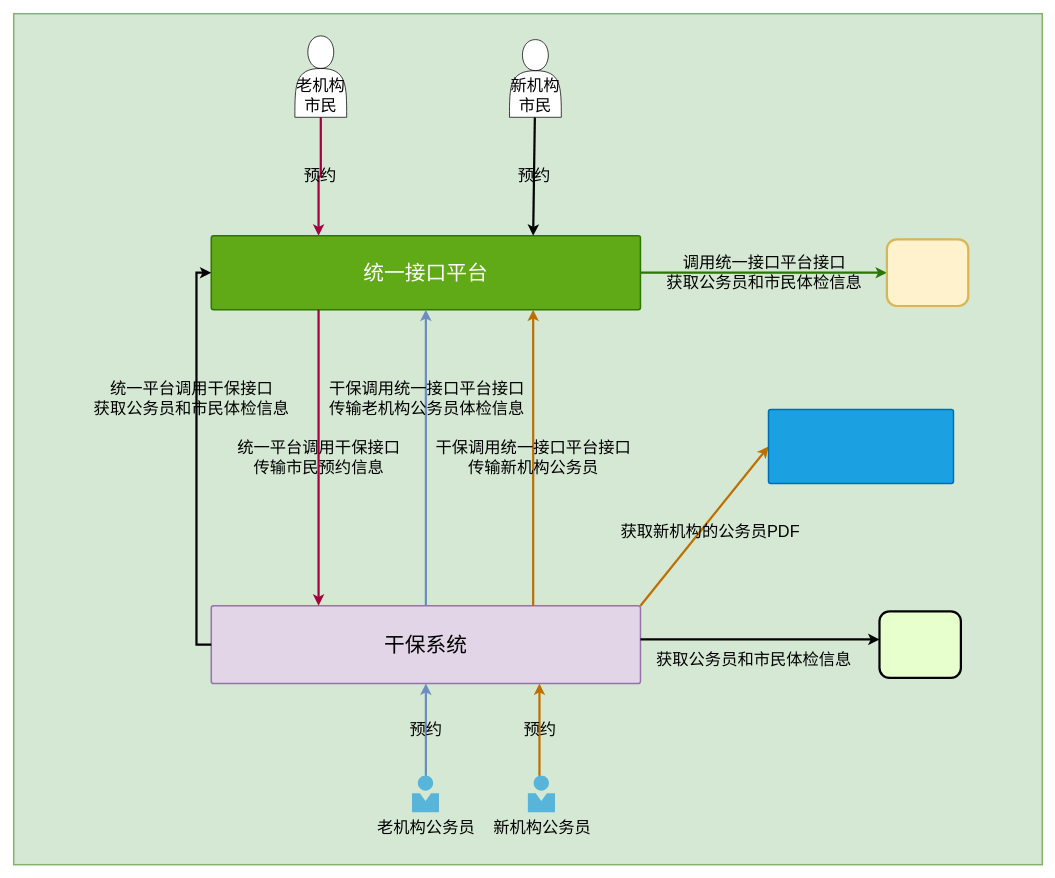
This 1055x878 diagram has some shape labels left out. The centre of each missing label's shape, as x and y in pixels:
数据中心: (x=860, y=446)
新机构: (x=927, y=272)
老机构: (x=920, y=644)
